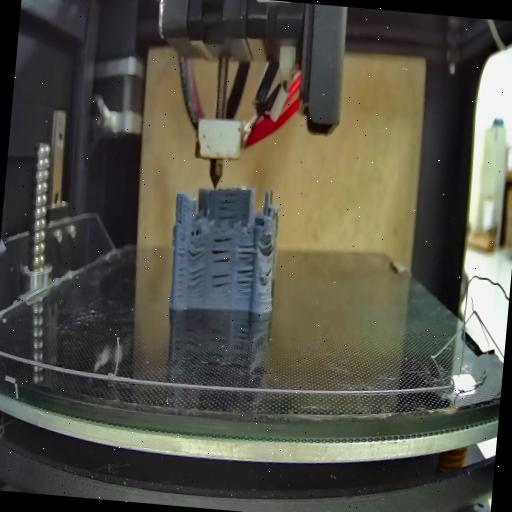cracks: (172, 234, 188, 302), (215, 188, 240, 222), (233, 266, 256, 300), (208, 270, 234, 298), (210, 236, 234, 265), (186, 264, 206, 295), (236, 240, 256, 262), (188, 240, 206, 264), (260, 237, 275, 258), (259, 266, 272, 288), (176, 212, 184, 226)
